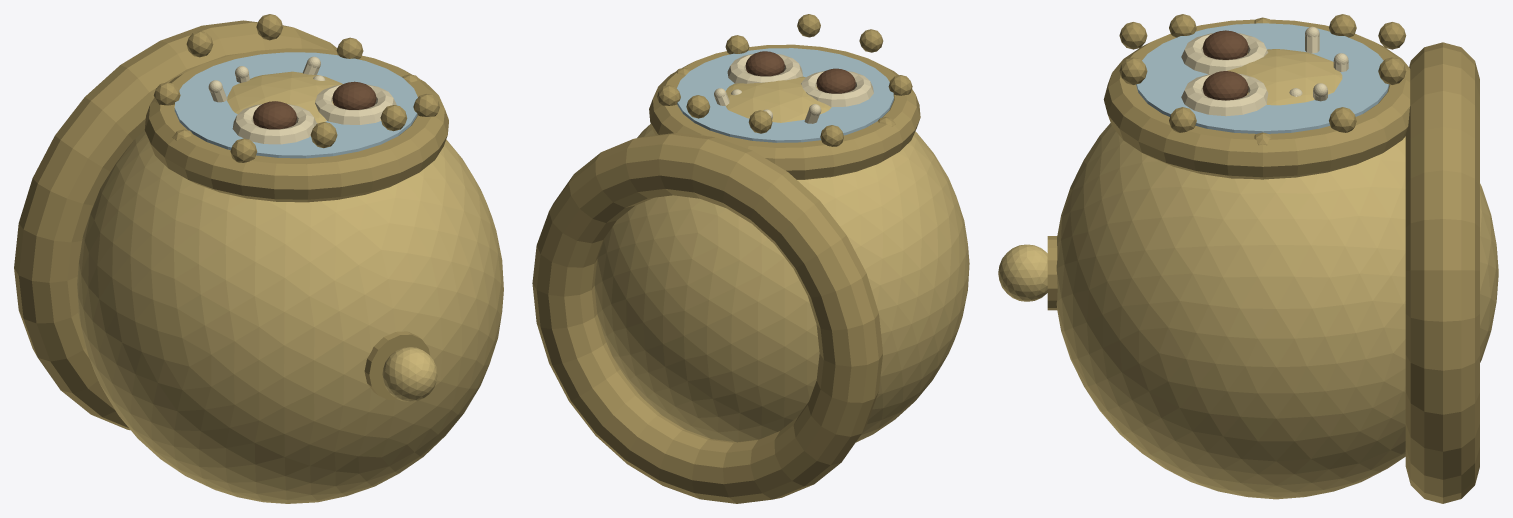
The model's file is phoboman_head.glb.
3 renders of one model, left to right at view 1: azimuth 30°, elevation 25°; view 2: azimuth 150°, elevation 25°; view 3: azimuth 270°, elevation 25°, orthographic. The views are drawn at different scales.
Parts seen in each view (by area): view 1: geometry_0; view 2: geometry_0; view 3: geometry_0.
Part boxes in pixels (<box>): geometry_0: <box>14,14,503,503</box>; geometry_0: <box>532,14,969,503</box>; geometry_0: <box>998,14,1498,503</box>.
Bounding box in the file's own units: 0.56 × 0.5909 × 0.6072.
